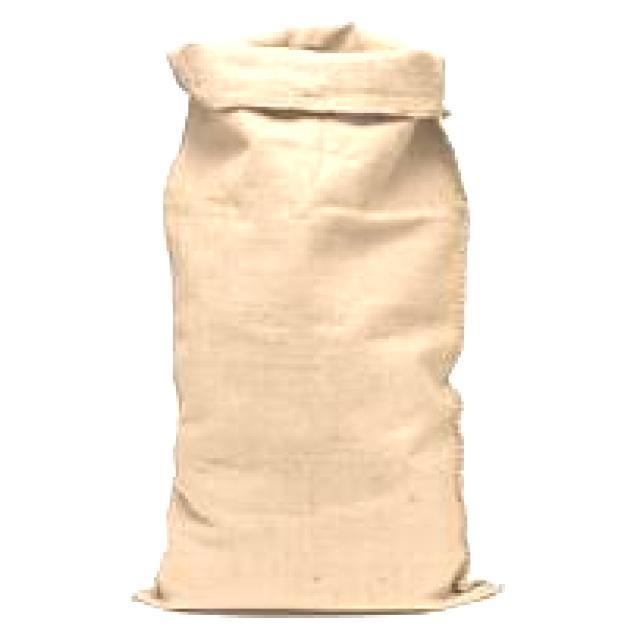gunny_bag: (119, 19, 507, 620)
